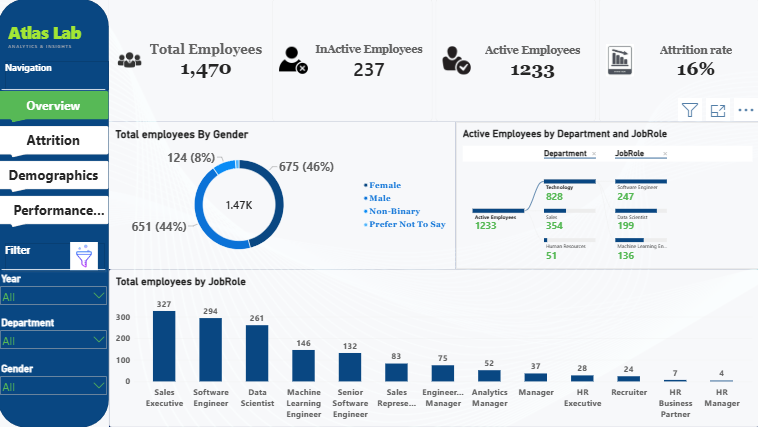

The dashboard page shown, as its layout file describes it:
{"tool":"powerbi","page":{"name":"Overview","canvas":[1920,1080],"ordinal":0},"visuals":[{"type":"shape","box":[0,0,279.7,1080.9],"z":0},{"type":"image","box":[0,0,433.4,196.5],"z":1000},{"type":"shape","box":[17.6,156.2,262,73.1],"z":2000},{"type":"shape","box":[0,196.5,279.7,63],"z":3000},{"type":"pageNavigator","box":[0,231.8,279.7,347.7],"z":4000},{"type":"shape","box":[17.6,614.8,252,73.1],"z":5000},{"type":"shape","box":[0,650.1,279.7,63],"z":6000},{"type":"image","box":[163.8,612.3,105.8,70.6],"z":7000},{"type":"slicer","fields":{"Values":["DimDate.MonthEnd.Variation.Date Hierarchy.Year"]},"box":[0,687.9,279.7,83.1],"z":8000},{"type":"slicer","fields":{"Values":["DimEmployee.Department"]},"box":[0,798.7,279.7,83.1],"z":9000},{"type":"slicer","fields":{"Values":["DimEmployee.Gender"]},"box":[0,914.6,279.7,83.1],"z":10000},{"type":"cardVisual","fields":{"Data":["_Meaures.Total employees","_Meaures.InActive Employees","_Meaures.Active Employees","_Meaures.Attrition rate"]},"box":[279.7,0,1640.3,309.9],"z":11000},{"type":"donutChart","title":"Total employees By Gender","fields":{"Category":["DimEmployee.Gender"],"Y":["_Meaures.Total employees"]},"box":[280.1,310.3,875.5,370.9],"z":12000},{"type":"clusteredColumnChart","fields":{"Category":["DimEmployee.JobRole"],"Y":["_Meaures.Total employees"]},"box":[280.1,681.2,1639.9,398.6],"z":13000},{"type":"decompositionTreeVisual","title":"Active Employees by Department and JobRole","fields":{"Analyze":["_Meaures.Active Employees"],"ExplainBy":["DimEmployee.Department","DimEmployee.JobRole"]},"box":[1155,310,765,371],"z":14000}]}

Visuals, with their boxes on the page's 1920x1080 design canvas (x1, y1, x2, y2). These are canvas units, not pixel positions in the 758x427 screenshot, which may show the page scaled, cropped or inside an application window:
shape: region(0, 0, 280, 1081)
image: region(0, 0, 433, 196)
shape: region(18, 156, 280, 229)
shape: region(0, 196, 280, 260)
pageNavigator: region(0, 232, 280, 580)
shape: region(18, 615, 270, 688)
shape: region(0, 650, 280, 713)
image: region(164, 612, 270, 683)
slicer - DimDate.MonthEnd.Variation.Date Hierarchy.Year: region(0, 688, 280, 771)
slicer - DimEmployee.Department: region(0, 799, 280, 882)
slicer - DimEmployee.Gender: region(0, 915, 280, 998)
cardVisual - _Meaures.Total employees x _Meaures.InActive Employees: region(280, 0, 1920, 310)
"Total employees By Gender" donutChart: region(280, 310, 1156, 681)
clusteredColumnChart - DimEmployee.JobRole x _Meaures.Total employees: region(280, 681, 1920, 1080)
"Active Employees by Department and JobRole" decompositionTreeVisual: region(1155, 310, 1920, 681)
